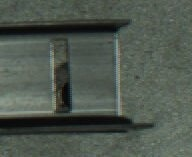40ngpress: (16, 20, 143, 129)
